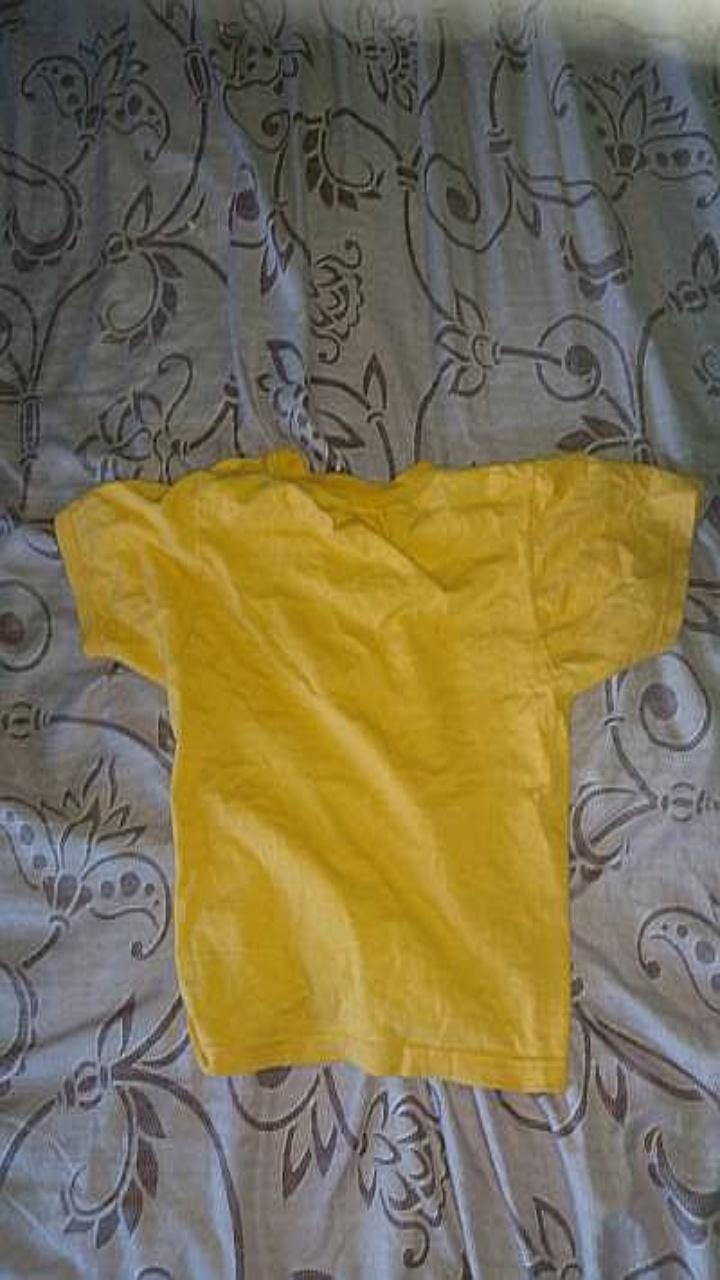T-Shirt: (56, 450, 699, 1090)
